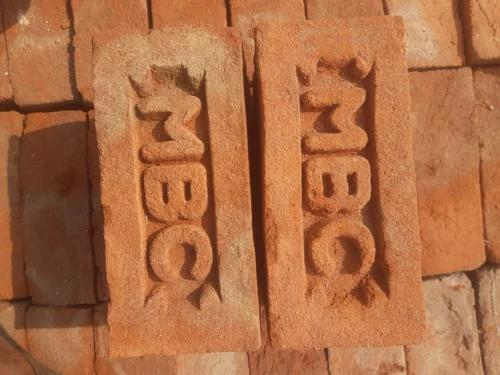brick: (251, 13, 425, 354), (92, 25, 259, 361), (414, 60, 486, 279), (23, 107, 92, 310)
